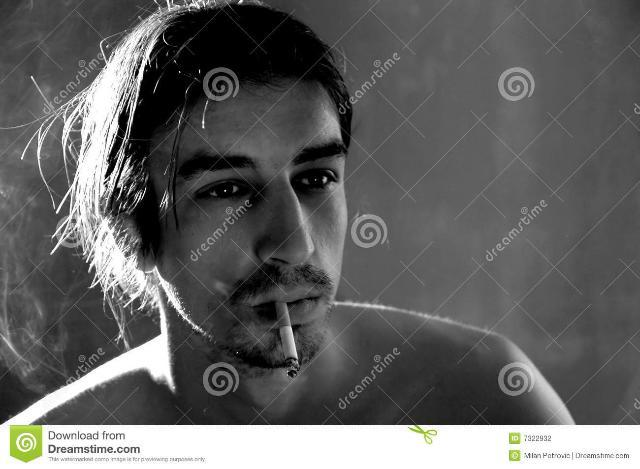SafeDriving: (191, 166, 260, 210), (284, 151, 346, 198), (200, 65, 243, 104)
Smoking: (274, 302, 304, 377)
